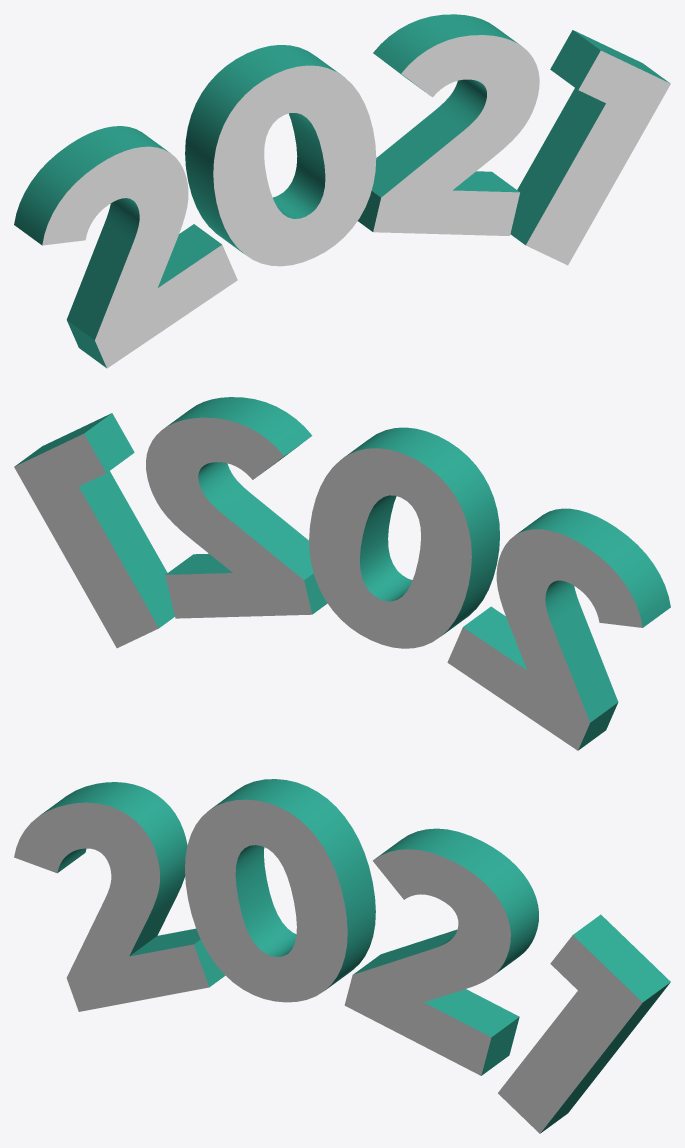
The picture shows the model from 3 angles, top to bottom: view 1: azimuth 30°, elevation 25°; view 2: azimuth 150°, elevation 25°; view 3: azimuth 330°, elevation 25°; orthographic projection.
Visible parts, largest first — view 1: polySurface2, polySurface1, polySurface3, polySurface4; view 2: polySurface2, polySurface1, polySurface3, polySurface4; view 3: polySurface2, polySurface3, polySurface1, polySurface4.
Part boxes in pixels (left/top/right/bottom): polySurface2: left=185, top=45, right=376, bottom=266; polySurface1: left=14, top=126, right=237, bottom=368; polySurface3: left=358, top=14, right=539, bottom=235; polySurface4: left=510, top=30, right=670, bottom=265; polySurface2: left=309, top=427, right=499, bottom=648; polySurface1: left=447, top=508, right=670, bottom=750; polySurface3: left=146, top=397, right=327, bottom=618; polySurface4: left=14, top=413, right=174, bottom=648; polySurface2: left=185, top=779, right=375, bottom=1002; polySurface3: left=344, top=828, right=538, bottom=1075; polySurface1: left=14, top=782, right=225, bottom=1011; polySurface4: left=498, top=914, right=670, bottom=1133.
Size of the model in its own units: 32.16 by 12.96 by 2.53.
Materials: 1 (1 with a texture image).
